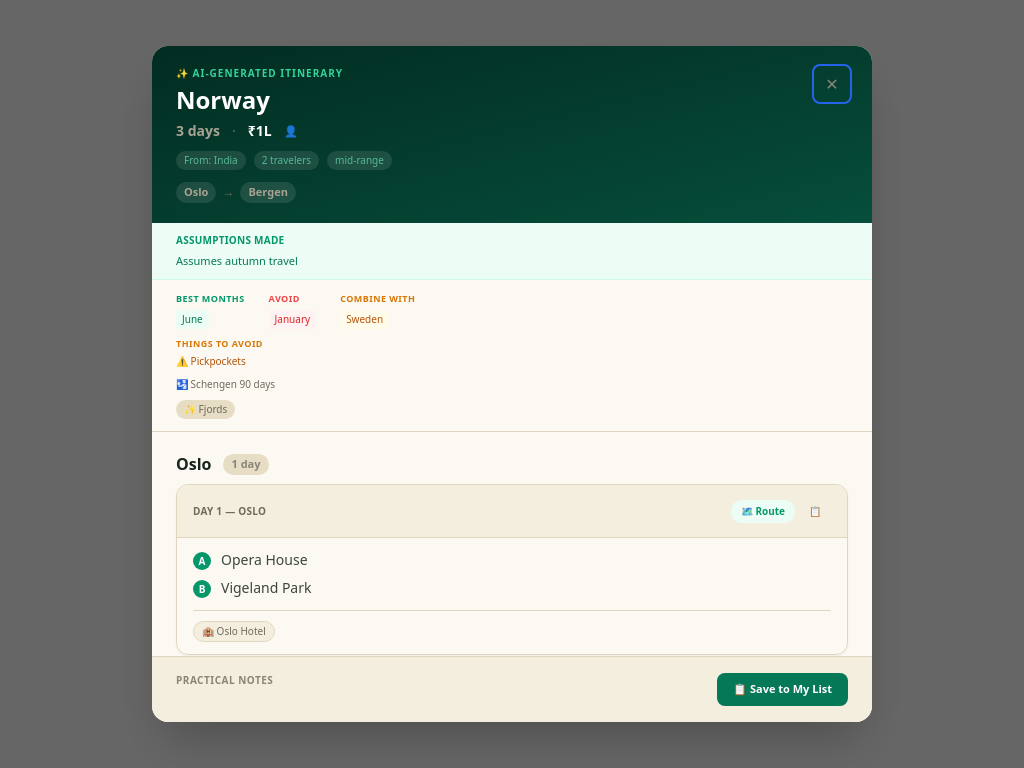
AiItineraryModal › shows saved state after saving the destination to My List
Click the button "📋 Save to My List". click: (783, 690)
box: [717,673,848,706]
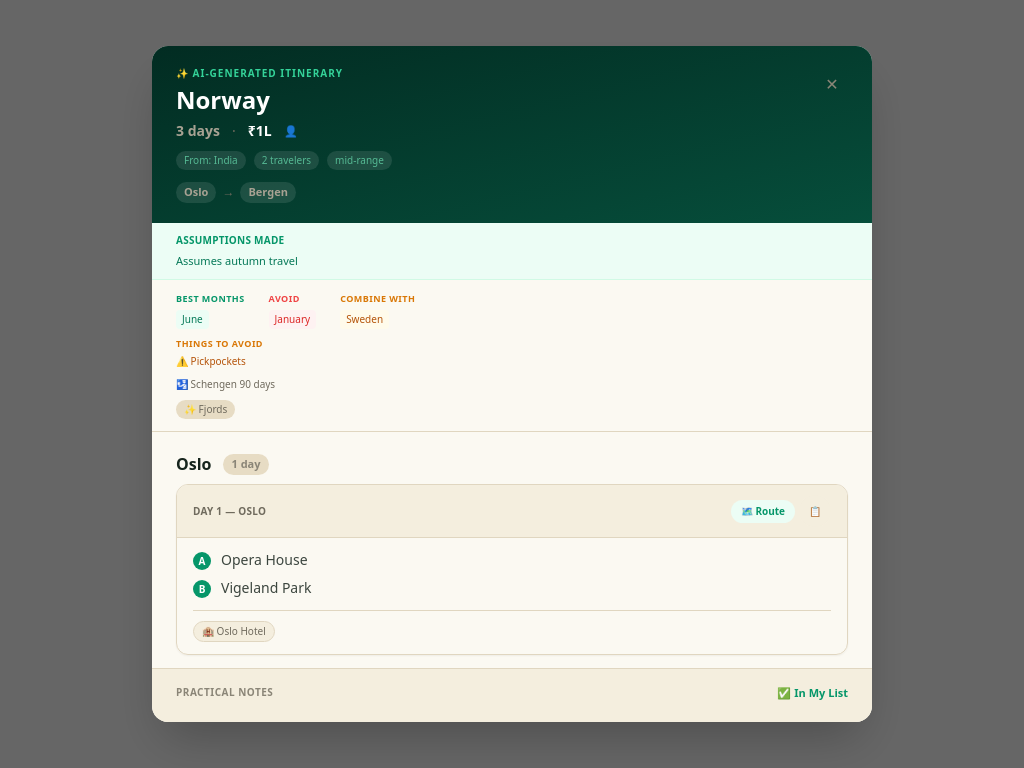
expect the text "✅ In My List" is shown: met, box [778,685,848,701]
